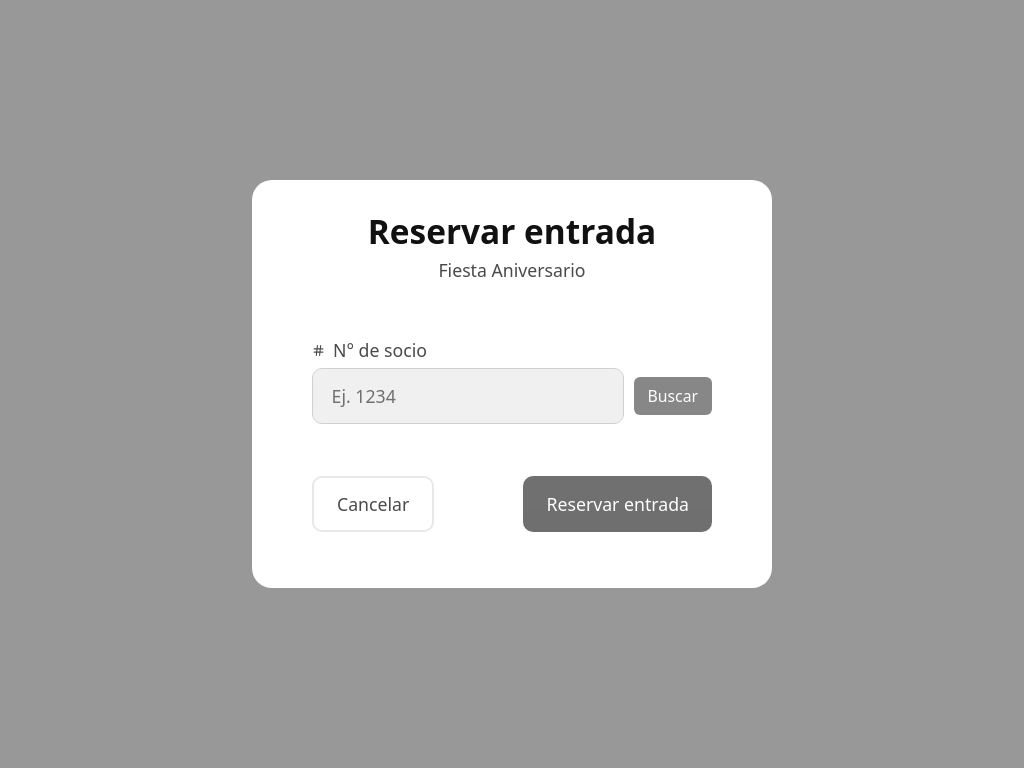
Scenario: ReservarEntradaForm › muestra el error de socio moroso indicando el socio incumpliendo
This screenshot has width=1024, height=768.
Type "1234" into the field with placeholder "Ej. 1234" at coordinates (468, 396), box x1=312 y1=368 x2=624 y2=424
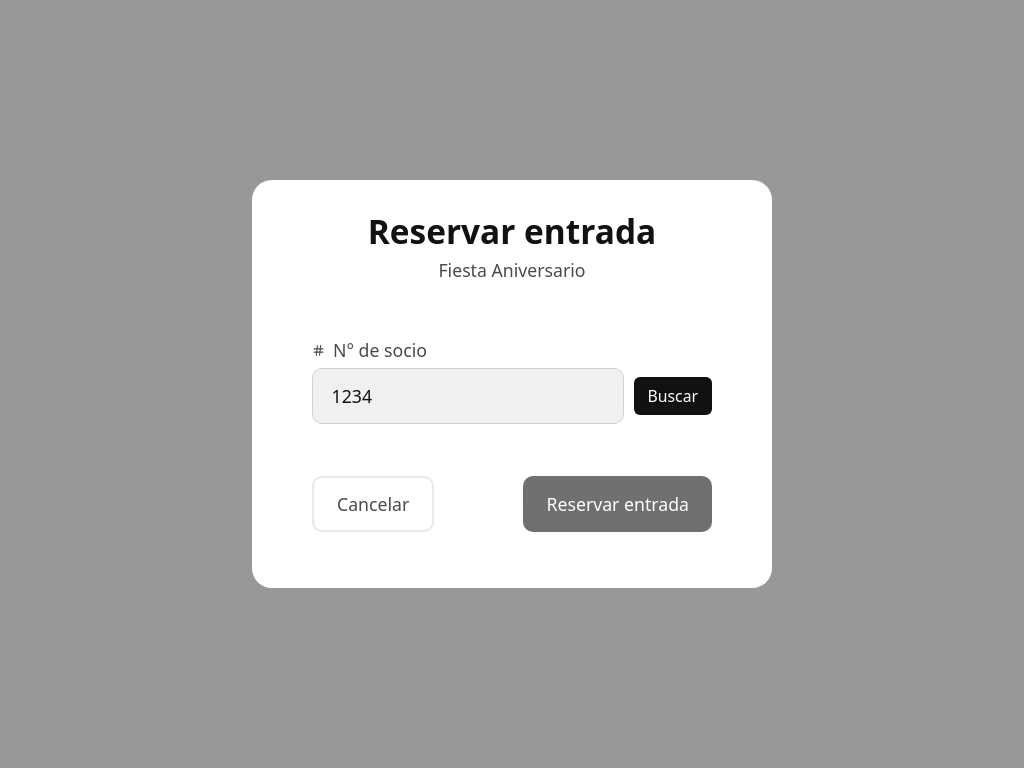
Click the button "Buscar" at coordinates (673, 396), box x1=634 y1=377 x2=712 y2=415
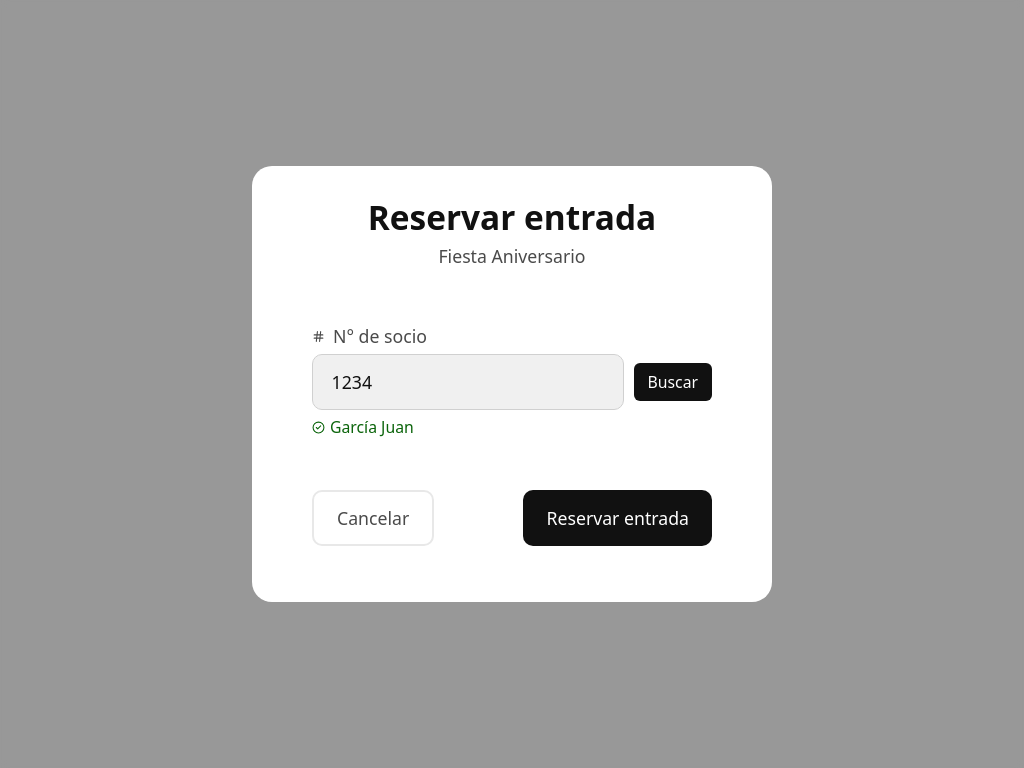
Expected: the text "García Juan" is shown, x1=312 y1=416 x2=414 y2=438
Click the button "Reservar entrada" at coordinates (618, 518), box x1=524 y1=490 x2=712 y2=546
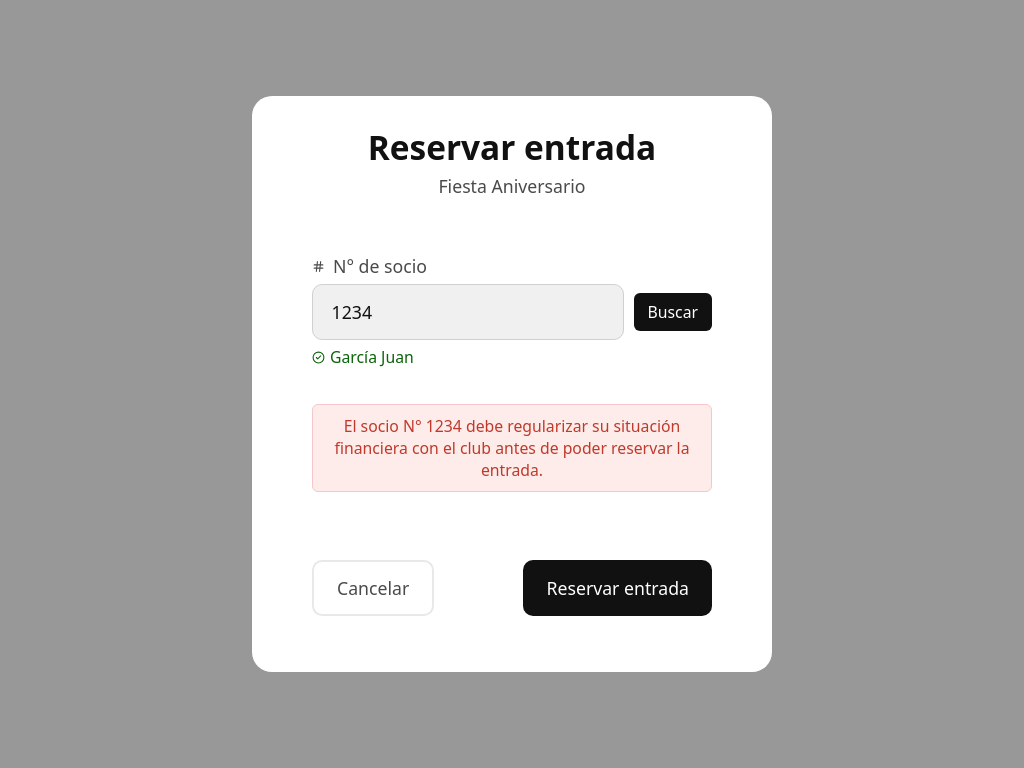
Expected: the text "El socio N° 1234 debe regularizar su situación financiera con el club antes de poder reservar la entrada." is shown, x1=334 y1=415 x2=690 y2=481
